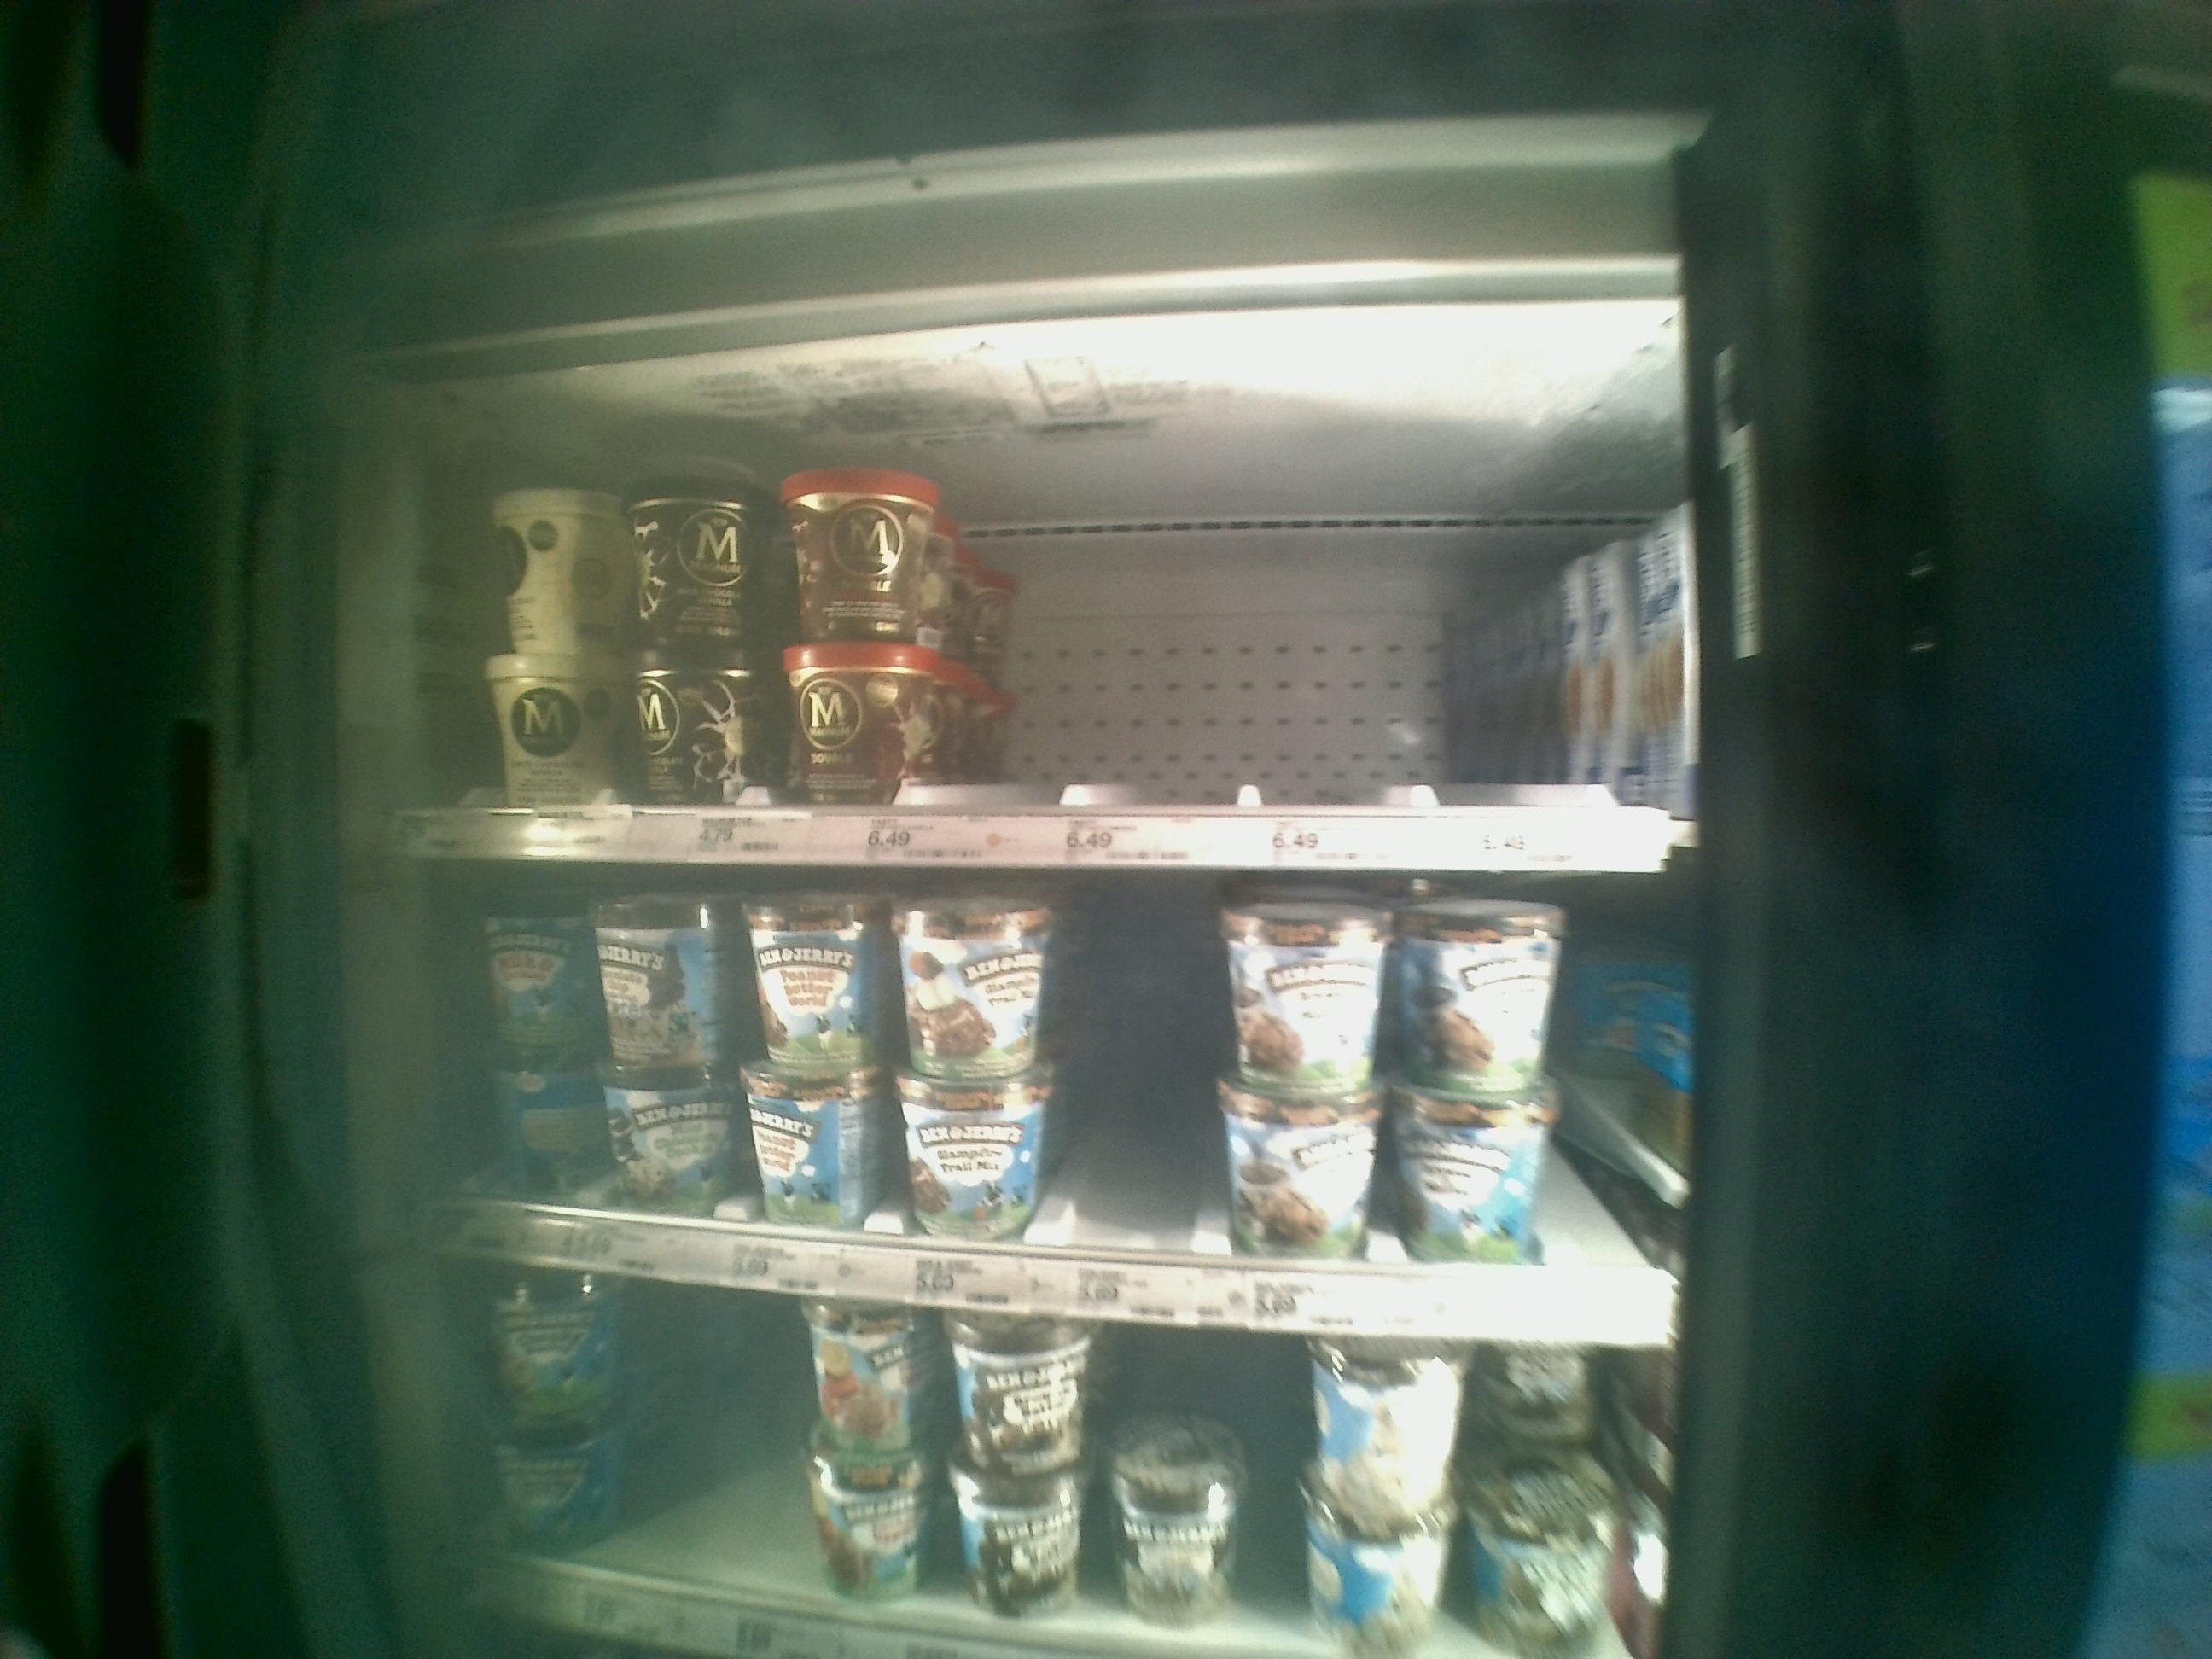shelf: (383, 382, 1712, 864), (383, 868, 1689, 1344)
